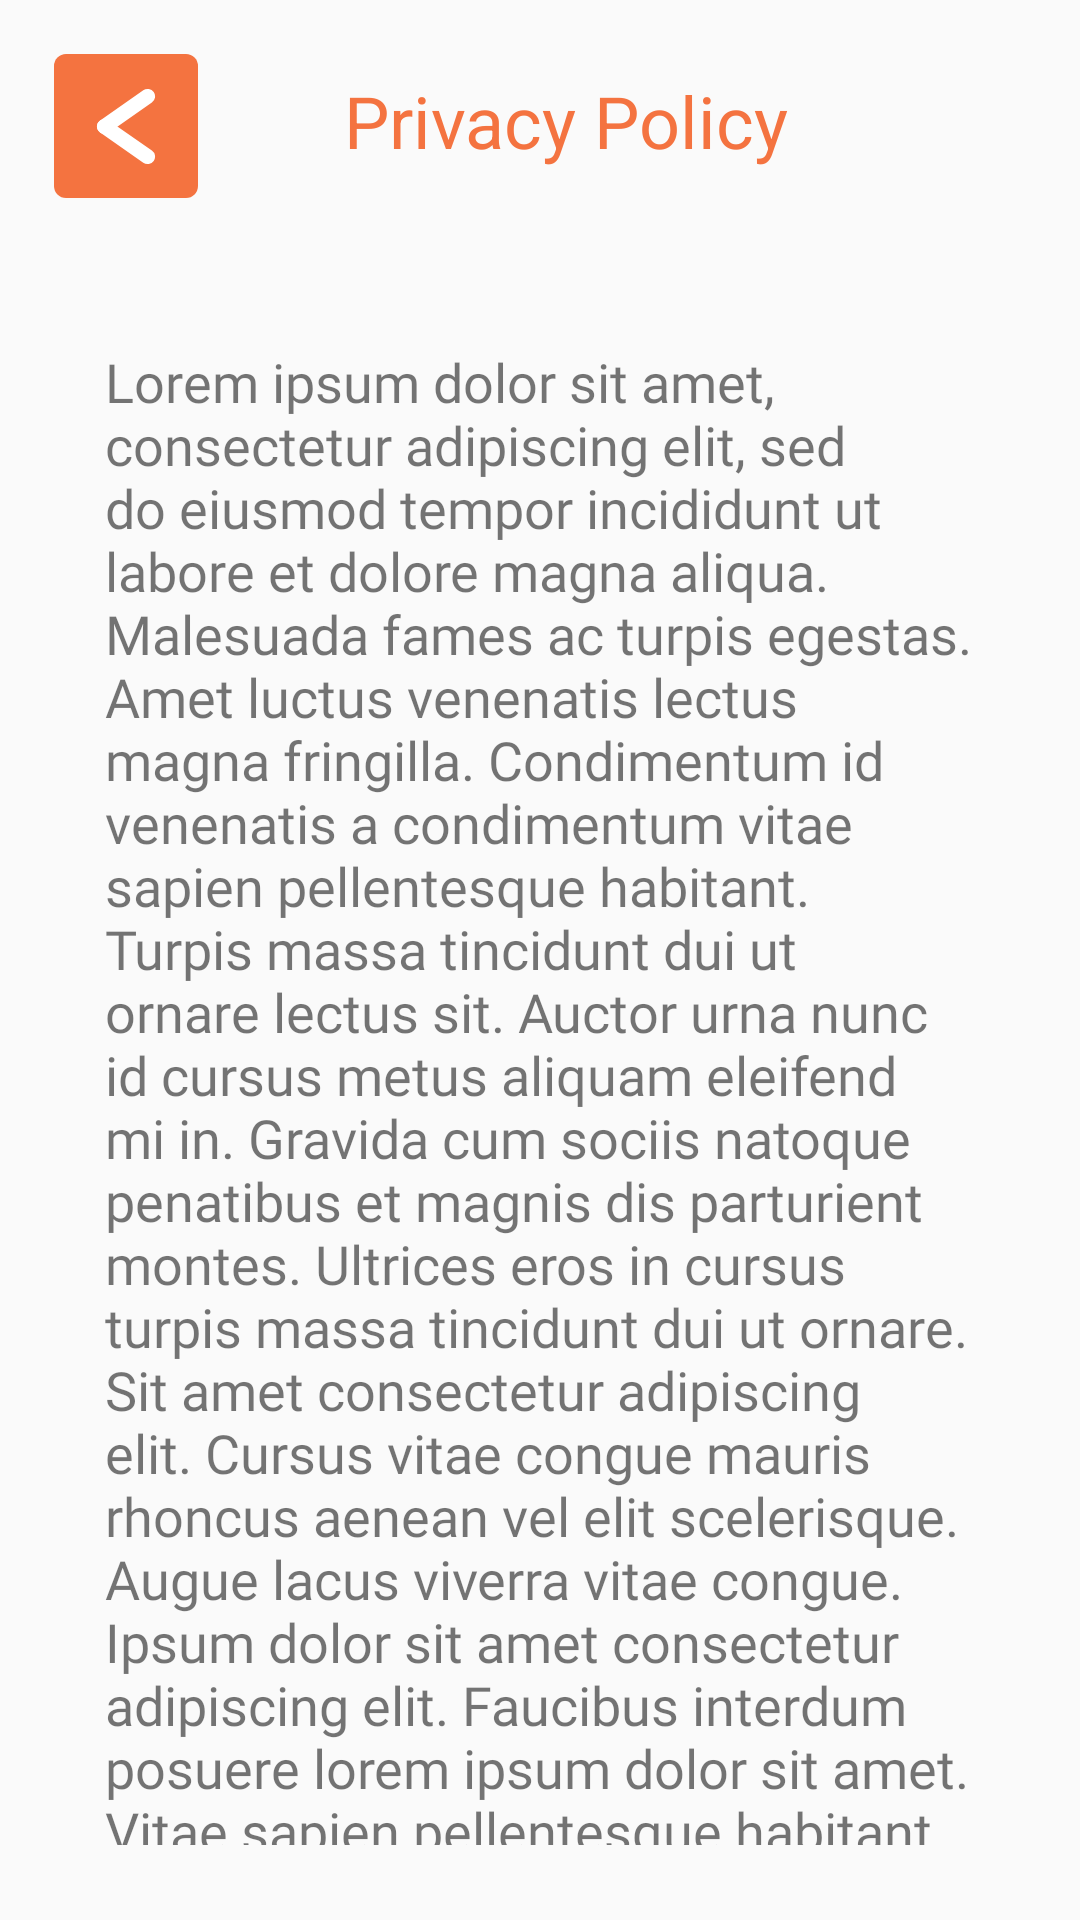

Point at icon controls on the screen. Image size 1080 x 1920, points as point (x, y).
Back: point (126, 126)
